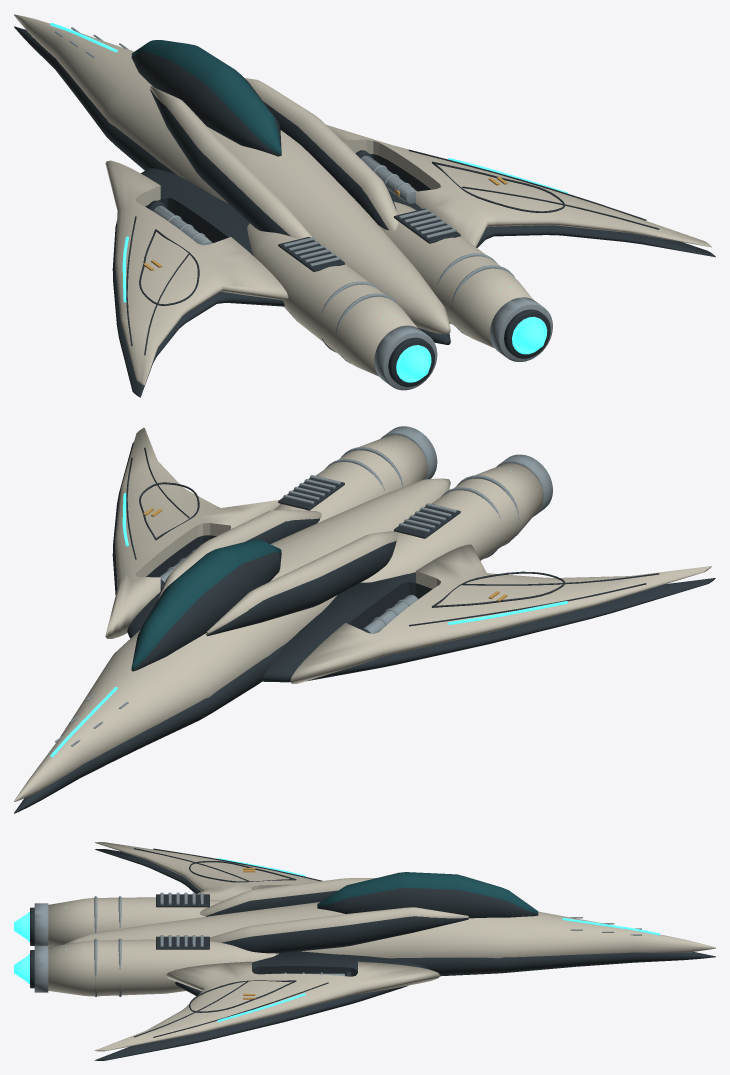
The model's file is assault.glb.
3 views of the same model, one above another, from view 1: azimuth 30°, elevation 25°; view 2: azimuth 150°, elevation 25°; view 3: azimuth 270°, elevation 25° (orthographic). The views are drawn at different scales.
Parts seen in each view (by area): view 1: SM_Assault_Game; view 2: SM_Assault_Game; view 3: SM_Assault_Game.
Boxes of the visible parts, <box> form: SM_Assault_Game: <box>14,14,715,397</box>; SM_Assault_Game: <box>14,426,715,813</box>; SM_Assault_Game: <box>14,842,715,1060</box>.
Size of the model in its own units: 7.16 by 1.58 by 10.08.
